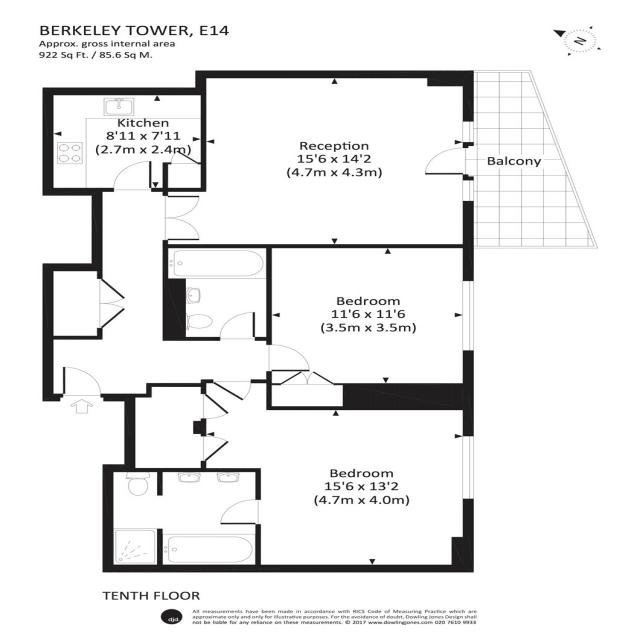DOOR: (422, 145, 475, 177), (59, 366, 104, 402), (113, 160, 153, 192), (266, 344, 311, 372), (219, 311, 256, 341), (219, 499, 261, 525), (212, 379, 253, 402), (200, 393, 230, 419), (200, 436, 230, 462)
DOUBLE DOOR: (163, 197, 202, 243)
ROOM: (162, 71, 475, 250), (193, 379, 474, 573), (265, 244, 475, 411), (42, 87, 207, 197)
WINDOW: (461, 280, 474, 352), (462, 435, 475, 500), (461, 179, 475, 202), (462, 121, 475, 144)
